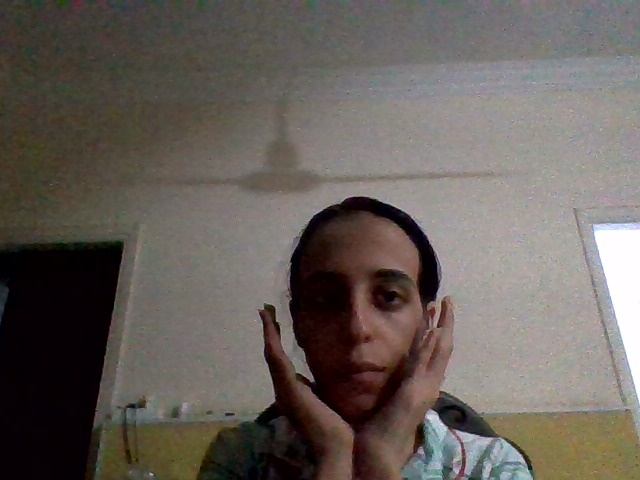ThankYou: (257, 295, 458, 448)
